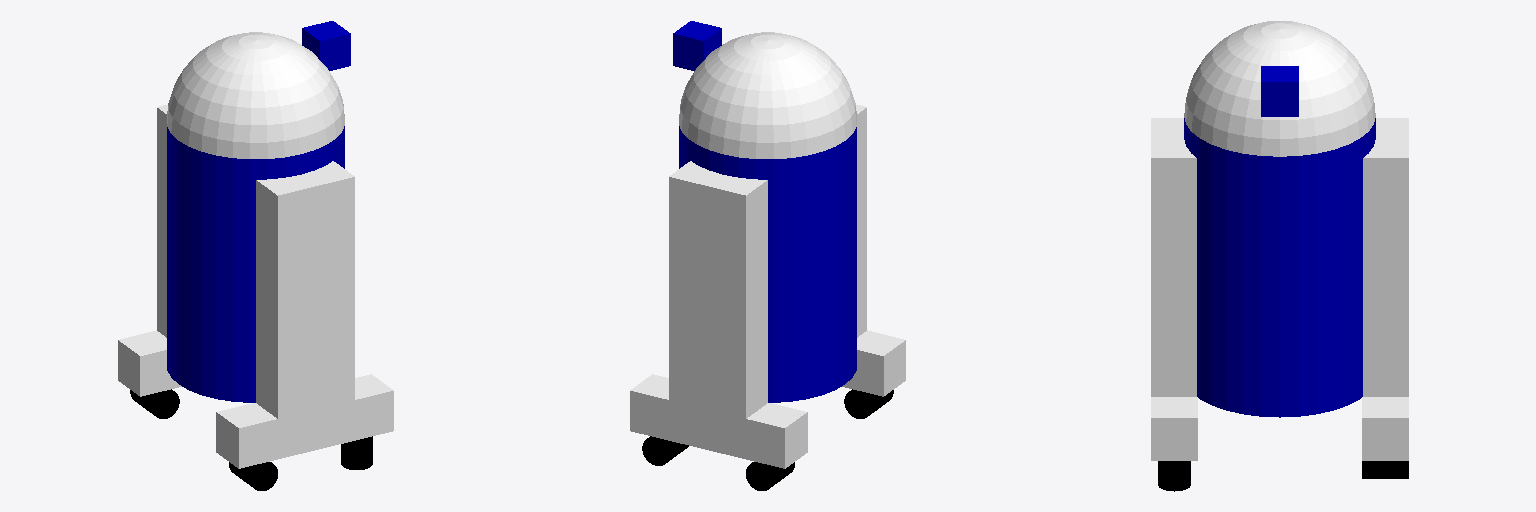
robot.urdf — r2d2:


<robot name="r2d2">
    
<material name="blue">
    <color rgba="0 0 0.8 1"/>
  </material>
  <material name="black">
    <color rgba="0 0 0 1"/>
  </material>
  <material name="white">
    <color rgba="1 1 1 1"/>
  </material>

  <link name="base_link">
    <visual>
      <geometry>
        <cylinder length="0.6" radius="0.2"/>
      </geometry>
      <material name="blue"/>
    </visual>
  </link>
<link name="right_leg">
    <visual>
      <geometry>
        <box size="0.6 0.1 0.2"/>
      </geometry>
      <origin rpy="0 1.57075 0" xyz="0 0 -0.3"/>
      <material name="white"/>
    </visual>
  </link>
<joint name="base_to_right_leg" type="fixed">
<parent link="base_link"/>
  <child link="right_leg"/>
<origin xyz="0 -0.22 0.25"/>
  </joint>

  <link name="right_base">
    <visual>
      <geometry>
        <box size="0.4 0.1 0.1"/>
      </geometry>
      <material name="white"/>
    </visual>
  </link>

  <joint name="right_base_joint" type="fixed">
    <parent link="right_leg"/>
    <child link="right_base"/>
    <origin xyz="0 0 -0.6"/>
  </joint>
 <link name="right_front_wheel">
    <visual>
      <origin rpy="1.57075 0 0" xyz="0 0 0"/>
      <geometry>
        <cylinder length="0.1" radius="0.035"/>
      </geometry>
      <material name="black"/>
      <origin rpy="0 0 0" xyz="0 0 0"/>
    </visual>
  </link>
  <joint name="right_front_wheel_joint" type="fixed">
    <parent link="right_base"/>
    <child link="right_front_wheel"/>
    <origin rpy="0 0 0" xyz="0.133333333333 0 -0.085"/>
  </joint>

   <link name="right_back_wheel">
    <visual>
      <origin rpy="1.57075 0 0" xyz="0 0 0"/>
      <geometry>
        <cylinder length="0.1" radius="0.035"/>
      </geometry>
      <material name="black"/>
    </visual>
  </link>
  <joint name="right_back_wheel_joint" type="fixed">
    <parent link="right_base"/>
    <child link="right_back_wheel"/>
    <origin rpy="0 0 0" xyz="-0.133333333333 0 -0.085"/>
  </joint>

  <link name="left_leg">
    <visual>
      <geometry>
        <box size="0.6 0.1 0.2"/>
      </geometry>
      <origin rpy="0 1.57075 0" xyz="0 0 -0.3"/>
      <material name="white"/>
    </visual>
  </link>

  <joint name="base_to_left_leg" type="fixed">
    <parent link="base_link"/>
    <child link="left_leg"/>
    <origin xyz="0 0.22 0.25"/>
  </joint>

  <link name="left_base">
    <visual>
      <geometry>
        <box size="0.4 0.1 0.1"/>
      </geometry>
      <material name="white"/>
    </visual>
  </link>

  <joint name="left_base_joint" type="fixed">
    <parent link="left_leg"/>
    <child link="left_base"/>
    <origin xyz="0 0 -0.6"/>
  </joint>

  <link name="left_front_wheel">
    <visual>
      <origin rpy="1.57075 0 0" xyz="0 0 0"/>
      <geometry>
        <cylinder length="0.1" radius="0.035"/>
      </geometry>
      <material name="black"/>
    </visual>
  </link>
  <joint name="left_front_wheel_joint" type="fixed">
    <parent link="left_base"/>
    <child link="left_front_wheel"/>
    <origin rpy="0 0 0" xyz="0.133333333333 0 -0.085"/>
  </joint>
  <link name="left_back_wheel">
    <visual>
      <origin rpy="1.57075 0 0" xyz="0 0 0"/>
      <geometry>
        <cylinder length="0.1" radius="0.035"/>
      </geometry>
      <material name="black"/>
    </visual>
  </link>
  <joint name="left_back_wheel_joint" type="fixed">
    <parent link="left_base"/>
    <child link="left_back_wheel"/>
    <origin rpy="0 0 0" xyz="-0.133333333333 0 -0.085"/>
  </joint>


  <link name="head">
    <visual>
      <geometry>
        <sphere radius="0.2"/>
      </geometry>
      <material name="white"/>
    </visual>
  </link>
  <joint name="head_swivel" type="fixed">
    <parent link="base_link"/>
    <child link="head"/>
    <origin xyz="0 0 0.3"/>
  </joint>

  <link name="box">
    <visual>
      <geometry>
        <box size="0.08 0.08 0.08"/>
      </geometry>
      <material name="blue"/>
    </visual>
  </link>

  <joint name="tobox" type="fixed">
    <parent link="head"/>
    <child link="box"/>
    <origin xyz="0.1814 0 0.1414"/>
  </joint>

</robot>

--- Facts derived from the render (not from the file) ---
3 views of the same robot in one strip: view 1: azimuth 30°, elevation 25°; view 2: azimuth 150°, elevation 25°; view 3: azimuth 270°, elevation 25° (orthographic).
Robot: r2d2 — 11 links, 10 joints (10 fixed); root link base_link; default pose: every joint at zero.
Visible links, largest first — view 1: base_link, right_leg, head, right_base, left_base, left_leg, box, right_front_wheel, left_back_wheel, right_back_wheel; view 2: base_link, left_leg, head, left_base, right_base, right_leg, box, right_back_wheel, left_back_wheel, left_front_wheel; view 3: base_link, head, right_leg, left_leg, right_base, left_base, box, right_front_wheel, left_front_wheel.
Link boxes in pixels (left/top/right/bottom): base_link: left=167, top=126, right=344, bottom=402; right_leg: left=256, top=161, right=354, bottom=421; head: left=167, top=32, right=344, bottom=158; right_base: left=216, top=374, right=393, bottom=468; left_base: left=118, top=330, right=181, bottom=396; left_leg: left=157, top=105, right=167, bottom=337; box: left=302, top=21, right=350, bottom=70; right_front_wheel: left=341, top=436, right=372, bottom=469; left_back_wheel: left=130, top=389, right=179, bottom=418; right_back_wheel: left=229, top=462, right=277, bottom=490; base_link: left=679, top=126, right=856, bottom=402; left_leg: left=669, top=161, right=767, bottom=436; head: left=679, top=32, right=856, bottom=158; left_base: left=630, top=374, right=807, bottom=468; right_base: left=842, top=330, right=905, bottom=396; right_leg: left=856, top=105, right=866, bottom=337; box: left=673, top=21, right=721, bottom=70; right_back_wheel: left=844, top=389, right=893, bottom=418; left_back_wheel: left=746, top=462, right=794, bottom=490; left_front_wheel: left=642, top=436, right=688, bottom=465; base_link: left=1184, top=118, right=1375, bottom=417; head: left=1184, top=21, right=1375, bottom=156; right_leg: left=1151, top=118, right=1196, bottom=396; left_leg: left=1363, top=118, right=1408, bottom=396; right_base: left=1151, top=397, right=1197, bottom=460; left_base: left=1362, top=397, right=1408, bottom=460; box: left=1261, top=66, right=1298, bottom=116; right_front_wheel: left=1158, top=461, right=1190, bottom=491; left_front_wheel: left=1362, top=461, right=1408, bottom=478.
Bounding box of the posed robot: 0.4214 × 0.54 × 0.985 m (x, y, z).
Geometry: primitives only (box / cylinder / sphere), no mesh files.